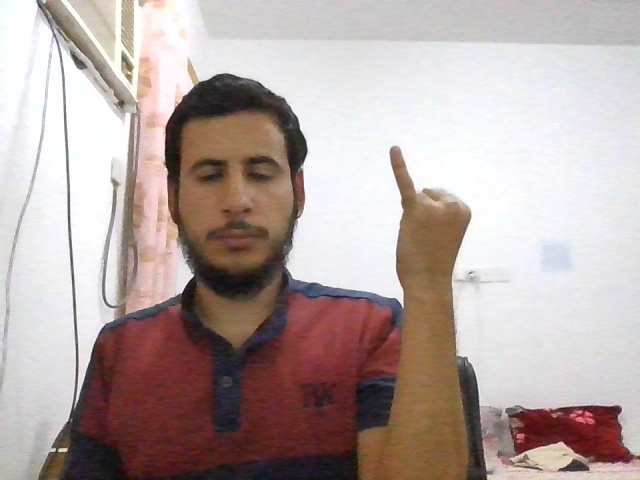One: (389, 147, 472, 289)
